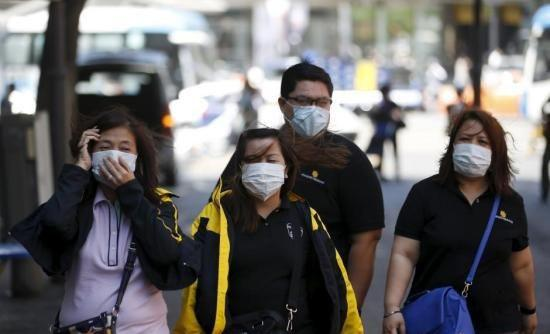OK: (451, 128, 501, 178), (92, 135, 141, 184), (241, 151, 286, 196), (291, 92, 335, 136)
